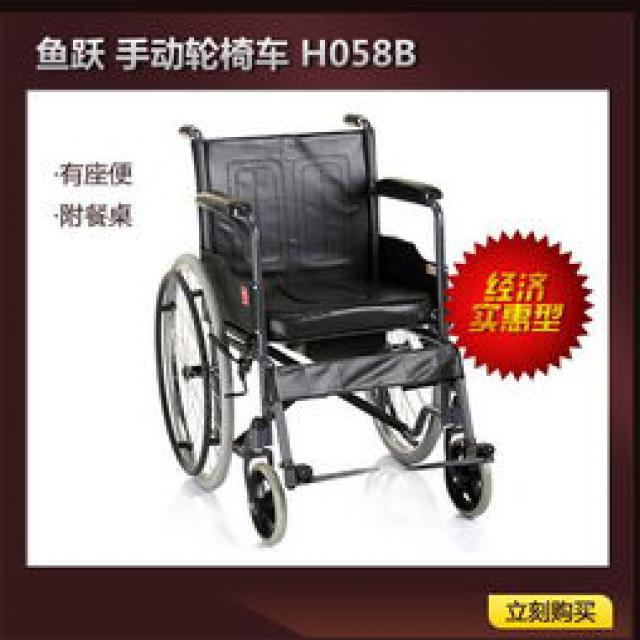wheelchair: (144, 107, 506, 546)
